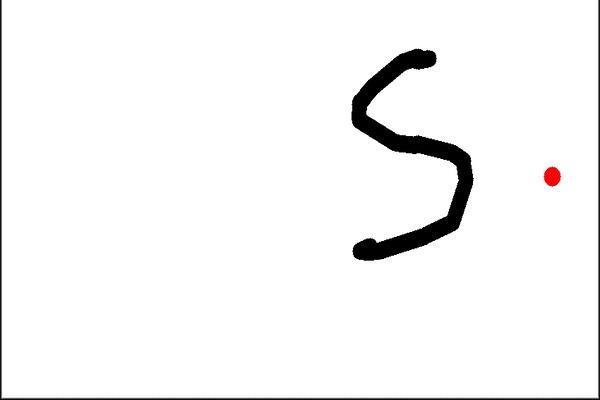S: (342, 44, 476, 265)
